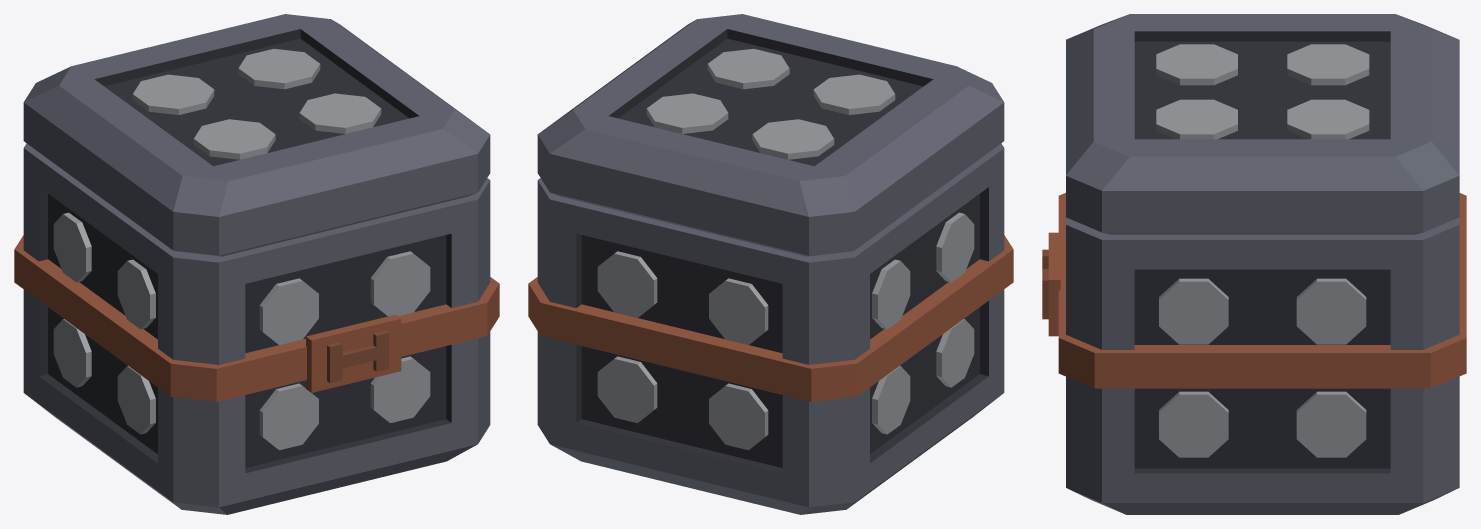
Rendered from cargo-crate-696892.glb.
3 renders of one model, left to right at view 1: azimuth 30°, elevation 25°; view 2: azimuth 150°, elevation 25°; view 3: azimuth 270°, elevation 25°, orthographic. The views are drawn at different scales.
Visible parts, largest first — view 1: crate-body, lid-mesh, latch-band-mesh; view 2: crate-body, lid-mesh, latch-band-mesh; view 3: crate-body, lid-mesh, latch-band-mesh.
Part boxes in pixels (left/top/right/bottom): crate-body: left=23, top=143, right=490, bottom=514; lid-mesh: left=23, top=14, right=490, bottom=256; latch-band-mesh: left=14, top=235, right=499, bottom=401; crate-body: left=537, top=143, right=1004, bottom=514; lid-mesh: left=537, top=14, right=1004, bottom=256; latch-band-mesh: left=528, top=235, right=1013, bottom=401; crate-body: left=1066, top=217, right=1459, bottom=514; lid-mesh: left=1066, top=14, right=1459, bottom=234; latch-band-mesh: left=1042, top=193, right=1466, bottom=388.
Bounding box in the file's own units: 1.24 × 1.2 × 1.29.
